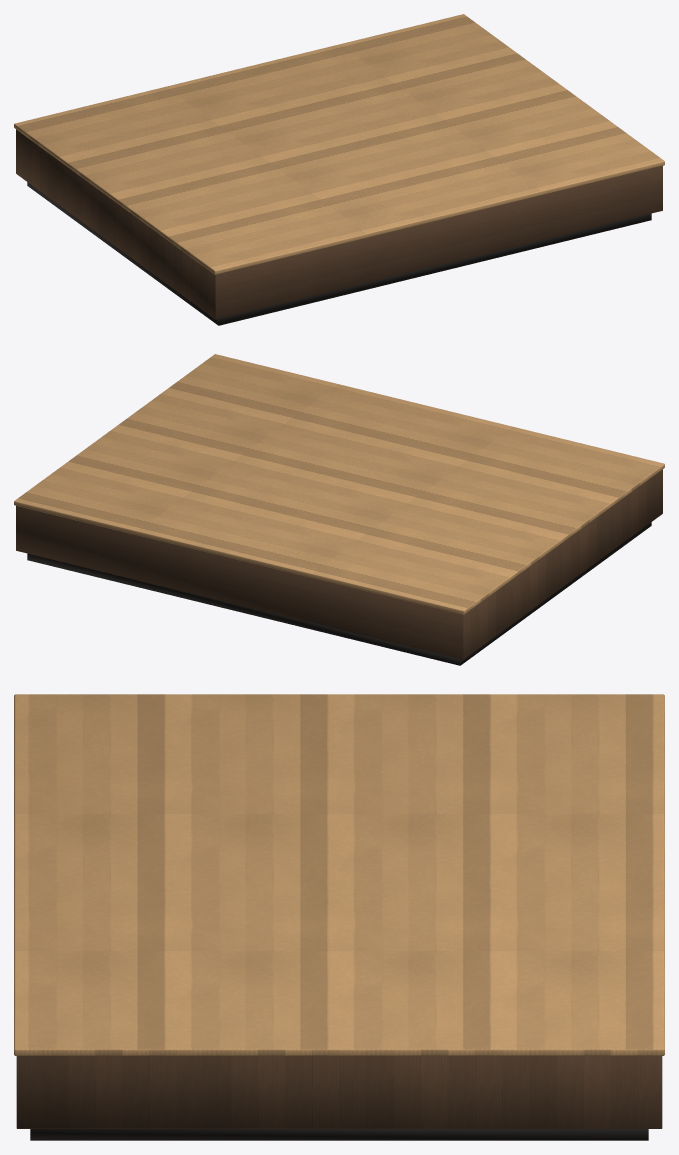
The model's file is display-plinth-oak.7ea7d556.glb.
3 views of the same model, one above another, from view 1: azimuth 30°, elevation 25°; view 2: azimuth 150°, elevation 25°; view 3: azimuth 270°, elevation 25° (orthographic). The views are drawn at different scales.
Visible parts, largest first — view 1: plinth-top, plinth-body, plinth-kick; view 2: plinth-top, plinth-body, plinth-kick; view 3: plinth-top, plinth-body, plinth-kick.
Part boxes in pixels (x1,y1,x2,y2): plinth-top: (14, 14, 664, 274); plinth-body: (16, 129, 662, 319); plinth-kick: (27, 182, 651, 325); plinth-top: (14, 354, 664, 614); plinth-body: (16, 469, 662, 659); plinth-kick: (27, 522, 651, 665); plinth-top: (14, 694, 664, 1055); plinth-body: (16, 1056, 662, 1128); plinth-kick: (30, 1129, 648, 1140).
Size of the model in its own units: 3.1 by 0.4 by 2.4.
Materials: 3 (2 with a texture image).
